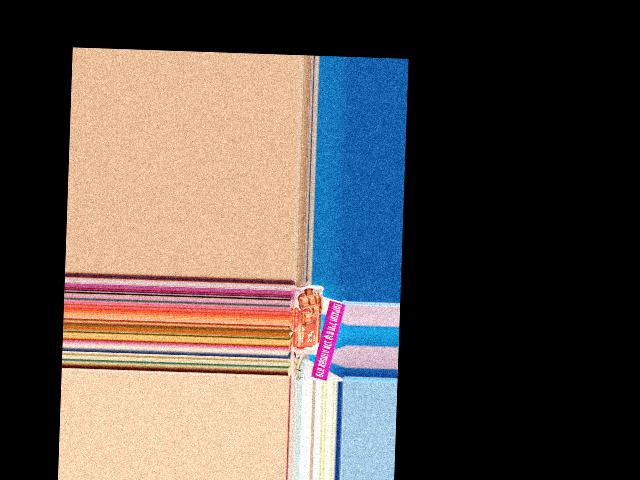chocolate: (290, 282, 324, 356)
